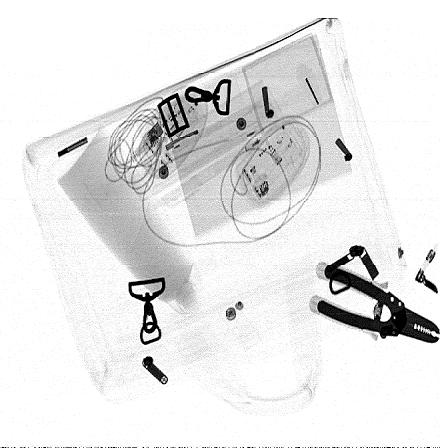Pliers: (317, 263, 439, 344)
